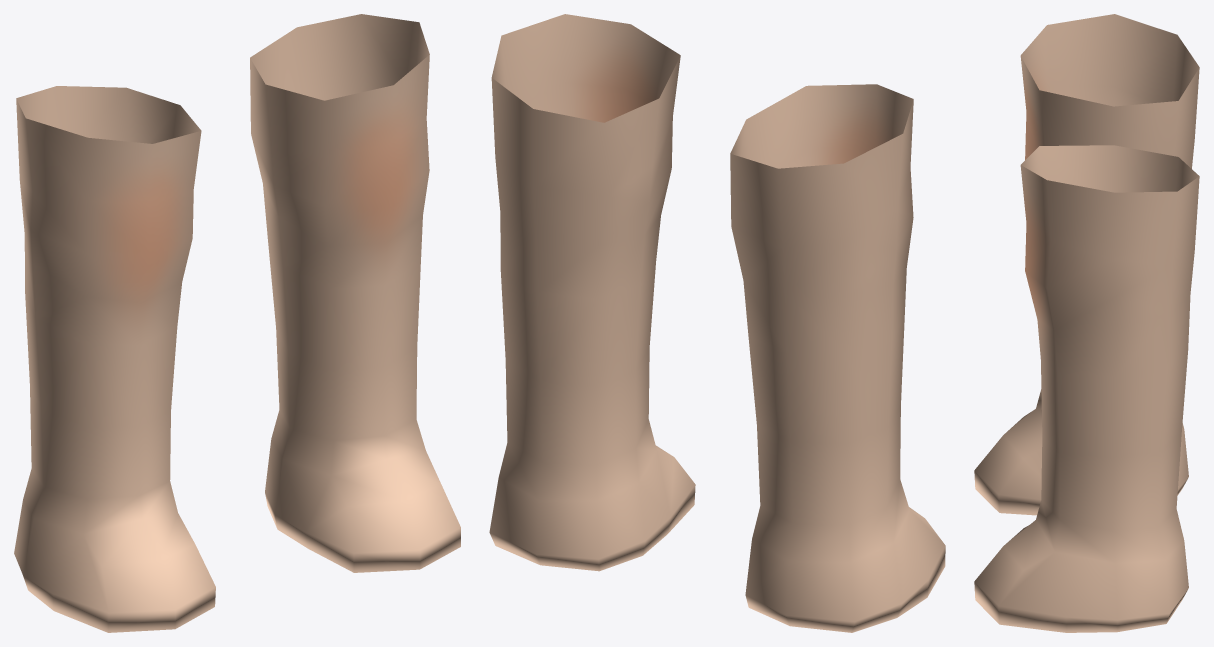
File: Body_LegB_1.fbx
3 renders of one model, left to right at view 1: azimuth 30°, elevation 25°; view 2: azimuth 150°, elevation 25°; view 3: azimuth 270°, elevation 25°, orthographic. The views are drawn at different scales.
Visible parts, largest first — view 1: Body_LegB_1; view 2: Body_LegB_1; view 3: Body_LegB_1.
Boxes of the visible parts, left/top/right/bottom form: Body_LegB_1: left=14, top=14, right=460, bottom=632; Body_LegB_1: left=489, top=14, right=945, bottom=632; Body_LegB_1: left=974, top=14, right=1199, bottom=632.
Bounding box in the file's own units: 32.81 × 37.71 × 17.42.
